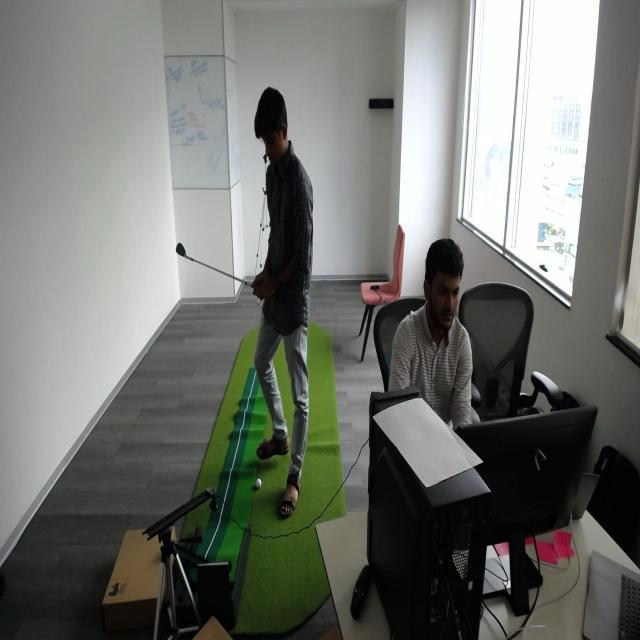ClubHead: (170, 234, 197, 273)
GolfBall: (255, 476, 262, 490)
